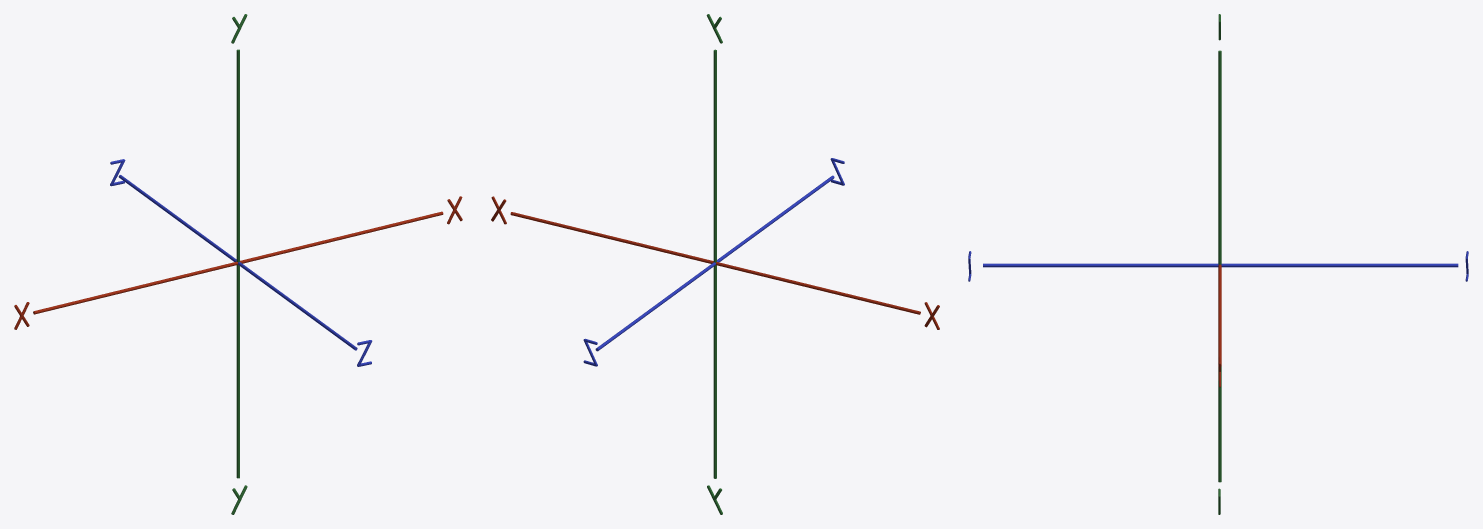
The model's file is xyz_axis_better.fbx.
The picture shows the model from 3 angles, left to right: view 1: azimuth 30°, elevation 25°; view 2: azimuth 150°, elevation 25°; view 3: azimuth 270°, elevation 25°; orthographic projection.
Parts seen in each view (by area): view 1: Cylinder003, Cylinder001, Cylinder002; view 2: Cylinder003, Cylinder001, Cylinder002; view 3: Cylinder002, Cylinder003.
Boxes of the visible parts, x1,y1,x2,y2 form: Cylinder003: (236,49,239,478); Cylinder001: (33,211,443,314); Cylinder002: (118,175,357,350); Cylinder003: (713,49,716,478); Cylinder001: (510,212,920,314); Cylinder002: (595,175,834,351); Cylinder002: (983,263,1458,267); Cylinder003: (1218,50,1221,482).
Size of the model in its own units: 131 by 139 by 126.
